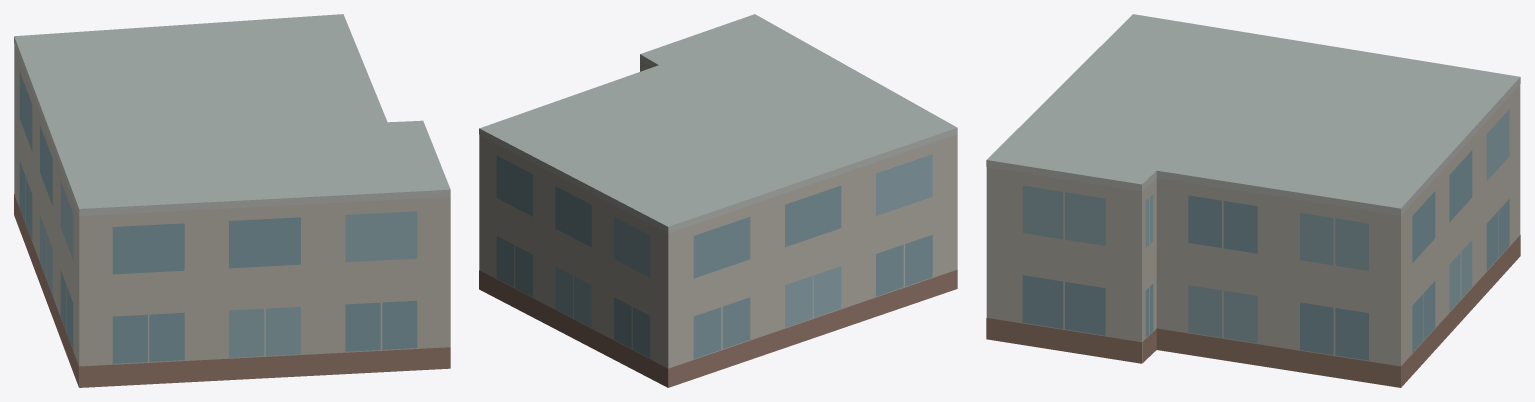
Rendered from survey-upis-33041252.glb.
The picture shows the model from 3 angles, left to right: view 1: azimuth 30°, elevation 25°; view 2: azimuth 150°, elevation 25°; view 3: azimuth 270°, elevation 25°; orthographic projection. The views are drawn at different scales.
Visible parts, largest first — view 1: survey-upis-33041252.tmp; view 2: survey-upis-33041252.tmp; view 3: survey-upis-33041252.tmp.
Part boxes in pixels (x1,y1,x2,y2): survey-upis-33041252.tmp: (14,14,450,387); survey-upis-33041252.tmp: (479,14,957,387); survey-upis-33041252.tmp: (986,14,1520,387).
Size of the model in its own units: 14.21 by 6.1 by 16.48.
